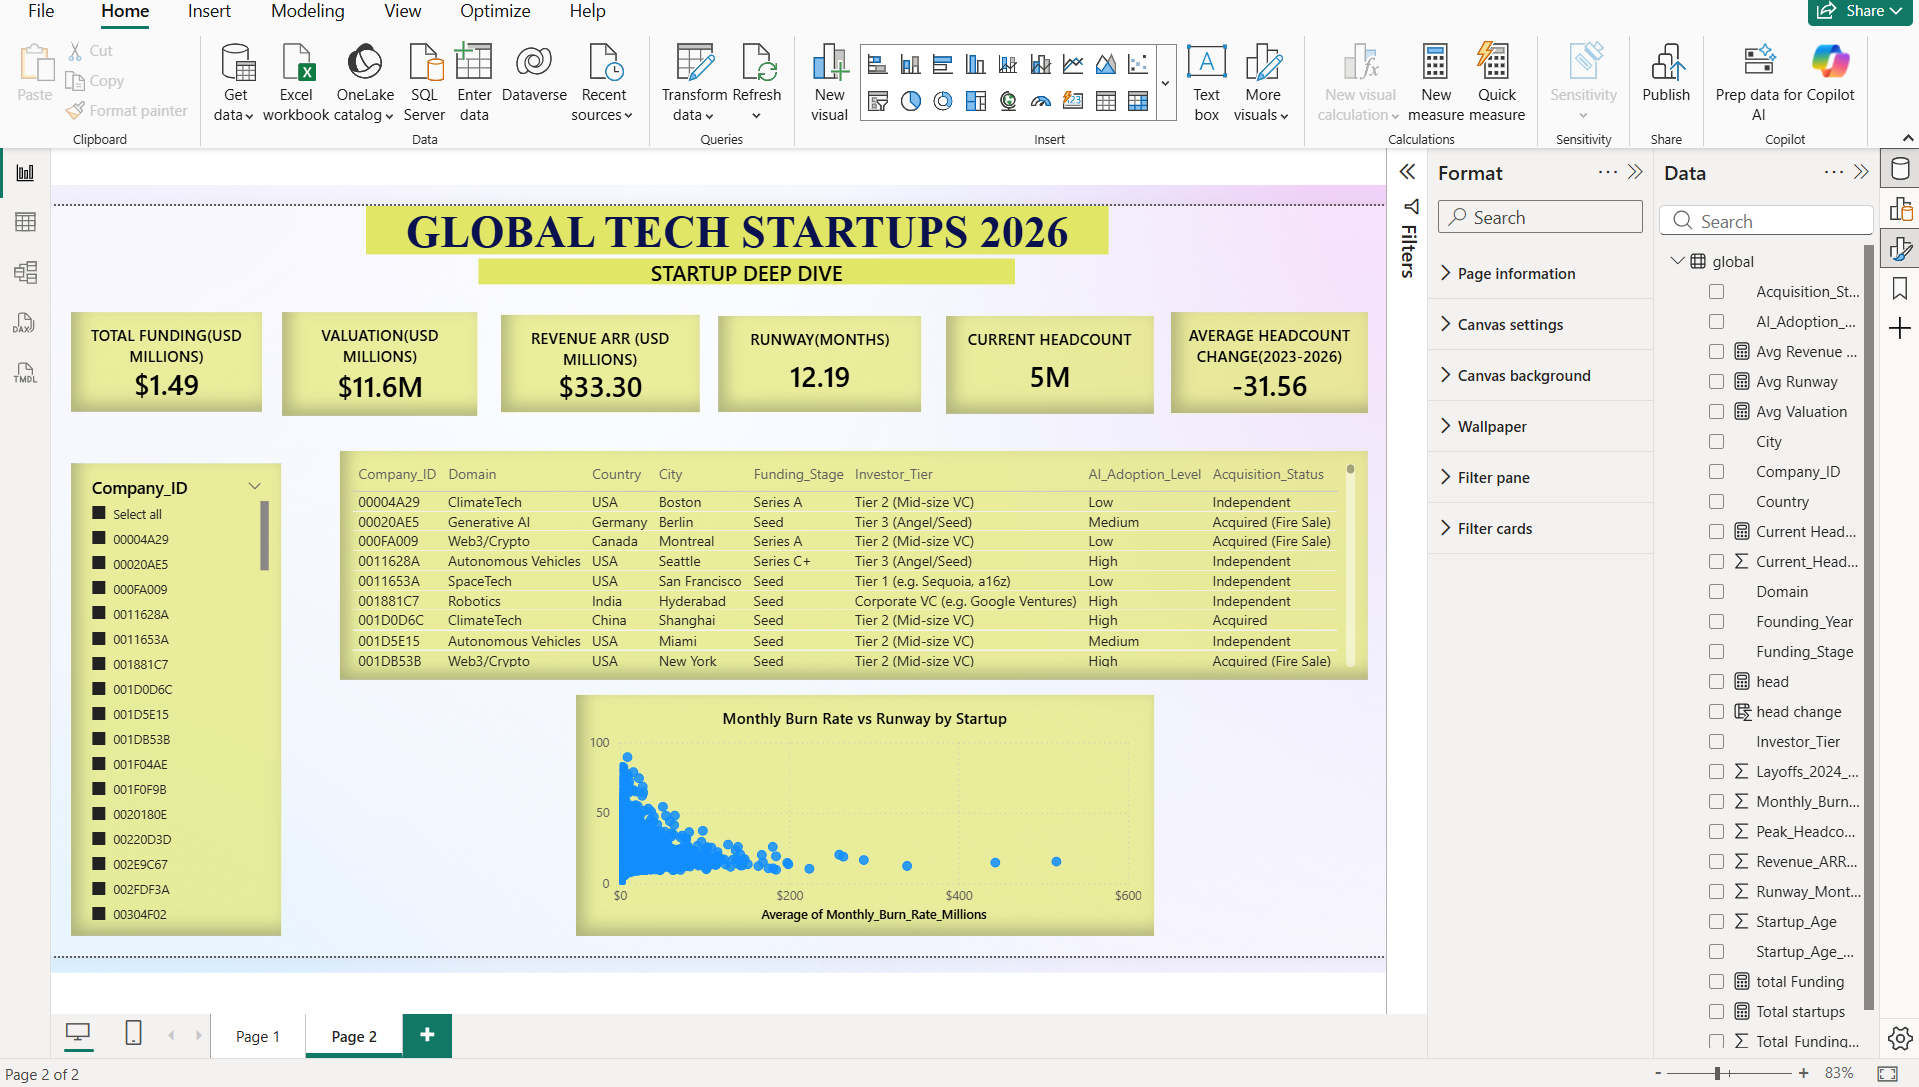

The dashboard page shown, as its layout file describes it:
{"tool":"powerbi","page":{"name":"Page 2","canvas":[1280,720],"ordinal":1},"visuals":[{"type":"slicer","fields":{"Values":["global.Company_ID"]},"box":[18.8,246.7,202,453],"z":0},{"type":"tableEx","fields":{"Values":["global.Company_ID","global.Domain","global.Country","global.City","global.Funding_Stage","global.Investor_Tier","global.AI_Adoption_Level","global.Acquisition_Status"]},"box":[277,235.2,985.4,219.3],"z":1000},{"type":"card","title":"TOTAL FUNDING(USD MILLIONS)","fields":{"Values":["global.total Funding"]},"box":[18.8,102.4,183.2,95.2],"z":2000},{"type":"card","title":"VALUATION(USD MILLIONS)","fields":{"Values":["Sum(global.Valuation_USD_Millions)"]},"box":[222.2,102.4,187.6,99.6],"z":3000},{"type":"card","title":"REVENUE ARR (USD MILLIONS)","fields":{"Values":["Avg(global.Revenue_ARR_Millions)"]},"box":[431.4,103.9,190.4,93.8],"z":4000},{"type":"card","title":"RUNWAY(MONTHS)","fields":{"Values":["Avg(global.Runway_Months_2024)"]},"box":[640.6,105.3,194.8,92.3],"z":5000},{"type":"card","title":"CURRENT HEADCOUNT","fields":{"Values":["global.Current Headcount"]},"box":[858.4,105.3,199.1,93.8],"z":6000},{"type":"scatterChart","title":"Monthly Burn Rate vs Runway by Startup","fields":{"X":["Avg(global.Monthly_Burn_Rate_Millions)"],"Y":["Avg(global.Runway_Months_2024)"],"Category":["global.Company_ID"]},"box":[503.5,468.9,554,230.8],"z":7000},{"type":"shape","title":"GLOBAL TECH STARTUPS 2026","box":[302,0,711.9,46.7],"z":8000},{"type":"shape","title":"STARTUP DEEP DIVE","box":[409.9,50.3,514.2,25.2],"z":9000},{"type":"card","title":"AVERAGE HEADCOUNT CHANGE(2023-2026)","fields":{"Values":["Avg(global.head change)"]},"box":[1073.4,102.4,189,96.7],"z":10000}]}

Visuals, with their boxes on the page's 1280x720 design canvas (x1, y1, x2, y2). These are canvas units, not pixel positions in the 1919x1087 screenshot, which may show the page scaled, cropped or inside an application window:
slicer - global.Company_ID: (19, 247, 221, 700)
tableEx - global.Company_ID x global.Domain: (277, 235, 1262, 454)
"TOTAL FUNDING(USD MILLIONS)" card: (19, 102, 202, 198)
"VALUATION(USD MILLIONS)" card: (222, 102, 410, 202)
"REVENUE ARR (USD MILLIONS)" card: (431, 104, 622, 198)
"RUNWAY(MONTHS)" card: (641, 105, 835, 198)
"CURRENT HEADCOUNT" card: (858, 105, 1058, 199)
"Monthly Burn Rate vs Runway by Startup" scatterChart: (504, 469, 1058, 700)
"GLOBAL TECH STARTUPS 2026" shape: (302, 0, 1014, 47)
"STARTUP DEEP DIVE" shape: (410, 50, 924, 76)
"AVERAGE HEADCOUNT CHANGE(2023-2026)" card: (1073, 102, 1262, 199)
